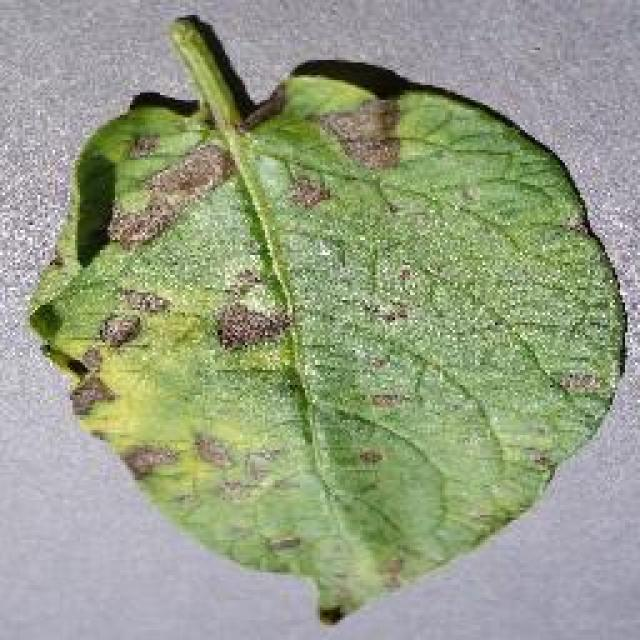Potato___Early_blight: (22, 12, 630, 624)
